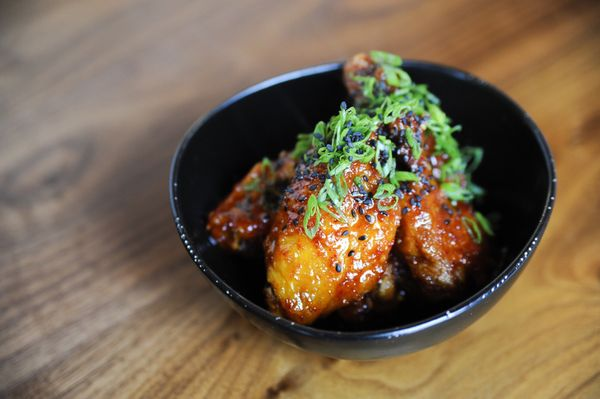sushi: (167, 60, 559, 363)
